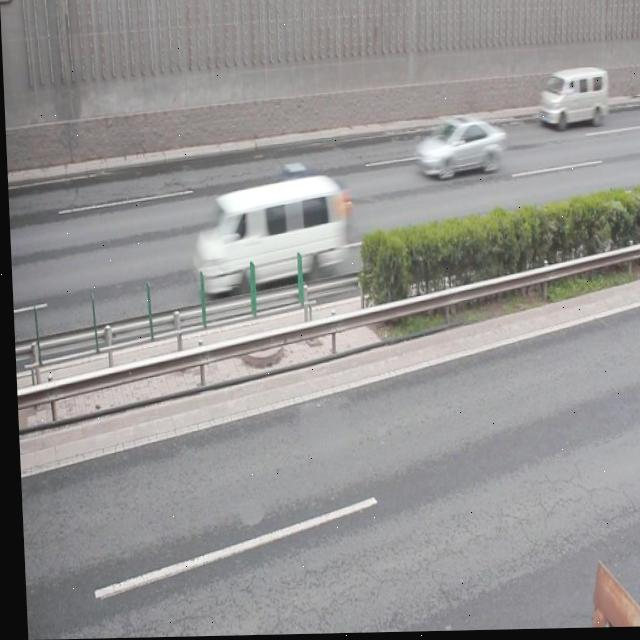car: (410, 115, 505, 183), (247, 169, 337, 239)
truck: (187, 177, 345, 294), (535, 68, 607, 130)
